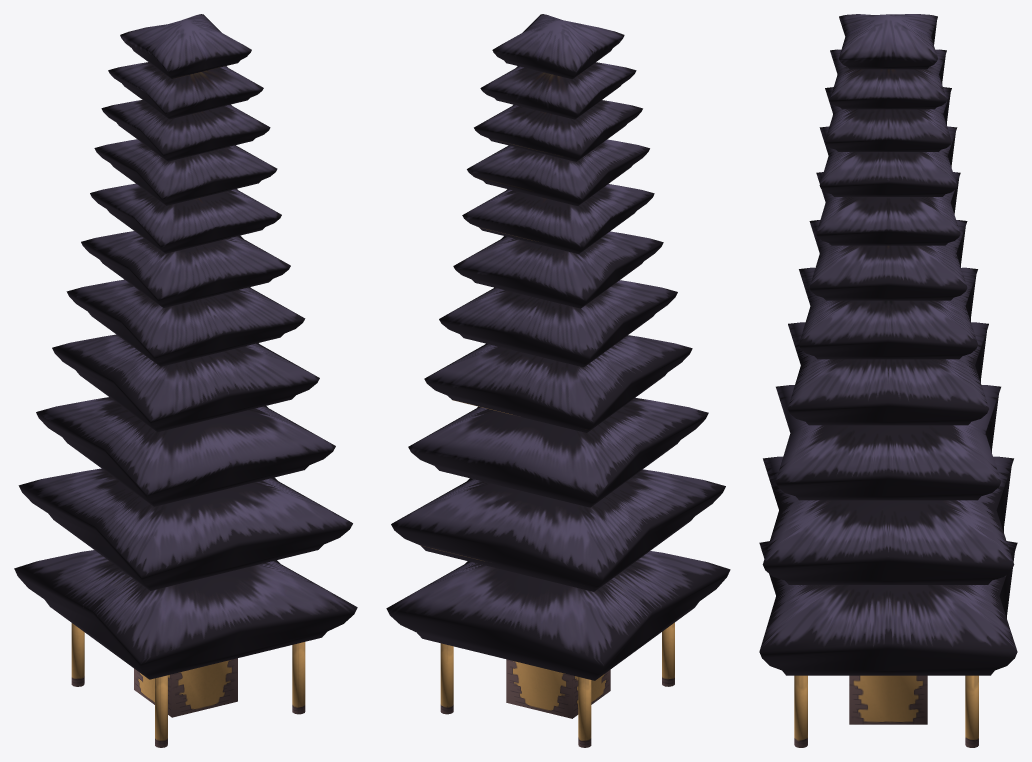
File: pagoda bali.fbx
3 views of the same model, side by side, from view 1: azimuth 30°, elevation 25°; view 2: azimuth 150°, elevation 25°; view 3: azimuth 270°, elevation 25° (orthographic). The views are drawn at different scales.
Parts seen in each view (by area): view 1: Cube; view 2: Cube; view 3: Cube.
Boxes of the visible parts, <box> form: Cube: <box>14,14,357,747</box>; Cube: <box>386,14,730,747</box>; Cube: <box>759,14,1017,747</box>.
Size of the model in its own units: 514 by 1525 by 514.
